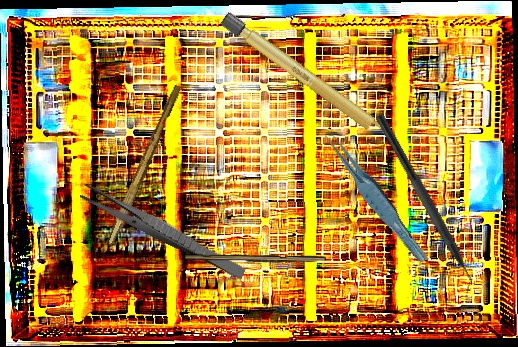Chopper: (363, 113, 485, 302)
Dressing Forceps: (78, 181, 249, 282)
Scalpel Handle: (217, 10, 403, 151), (106, 82, 183, 249), (185, 254, 326, 264)
Tissue Forceps: (321, 121, 429, 270)
